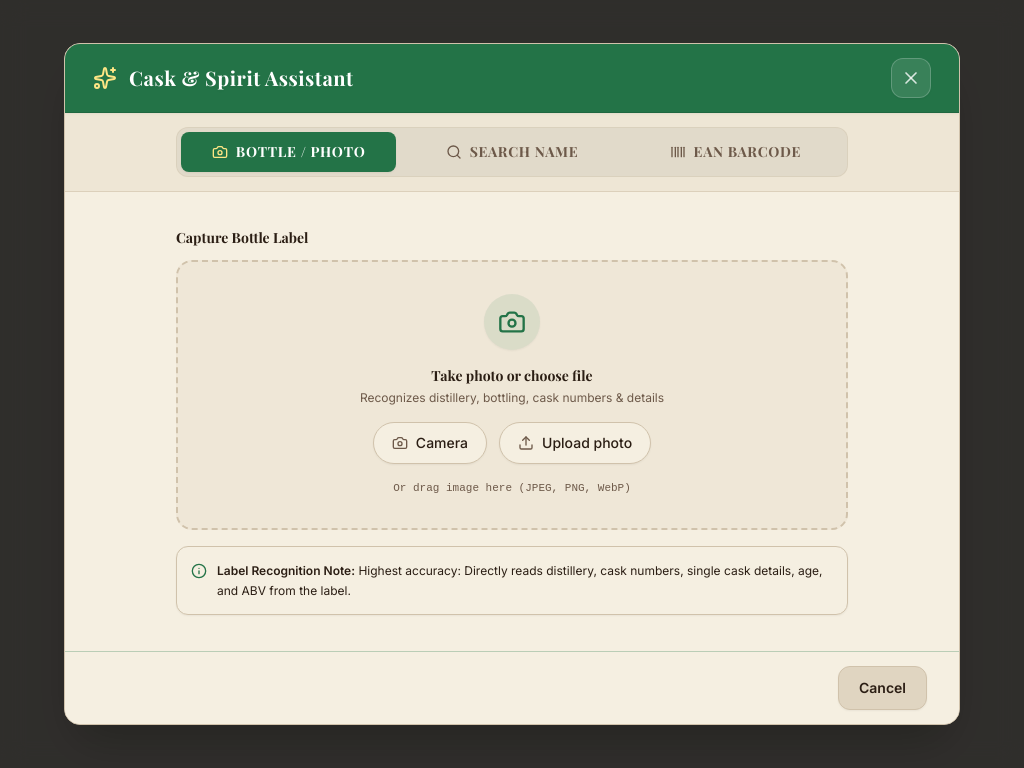
Test case: SpiritScanModal Integration › switches between tabs cleanly
Click the button "Search Name" at (512, 152), box [404, 132, 620, 172]
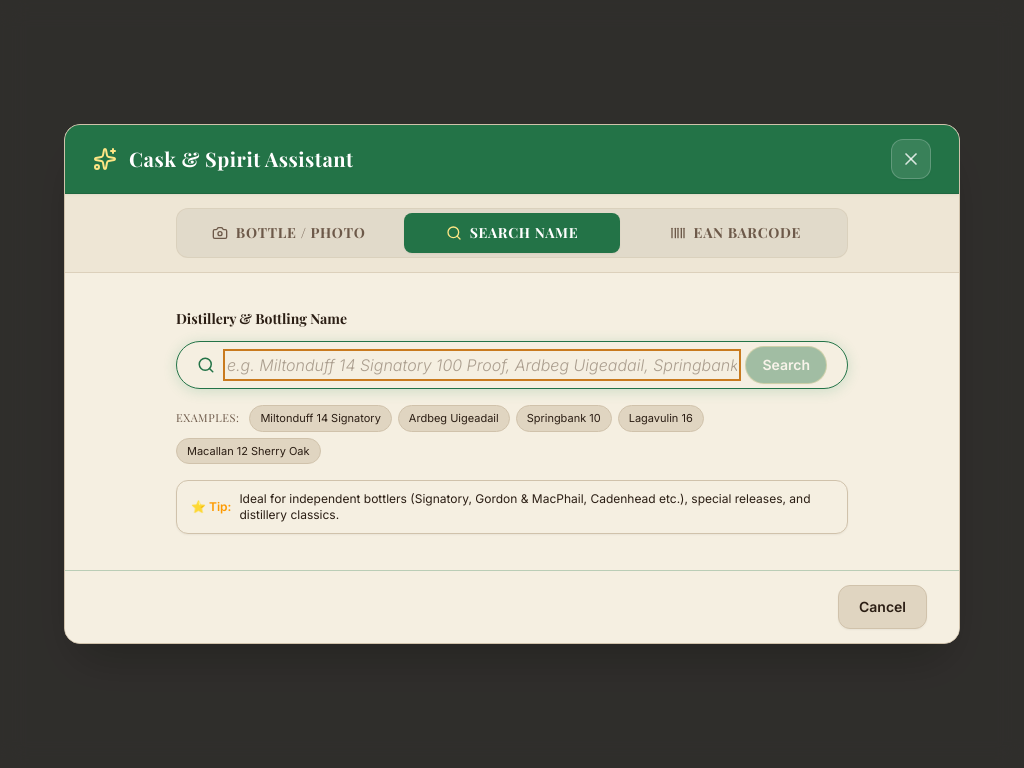
Now the button with test id "spirit-search-submit-btn" is shown, box [746, 346, 827, 384]
Click the button "EAN Barcode" at (735, 233), box [628, 213, 843, 253]
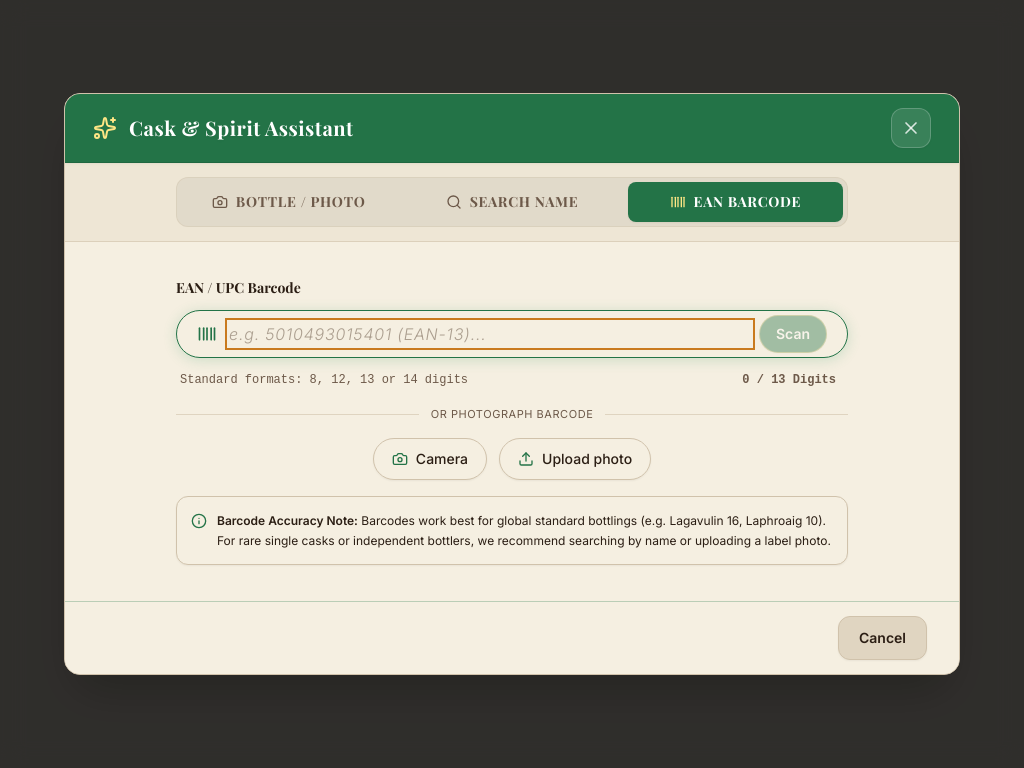
Now the button with test id "spirit-barcode-submit-btn" is shown, box [759, 315, 827, 353]
